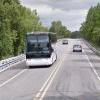Bus: (22, 28, 60, 70)
